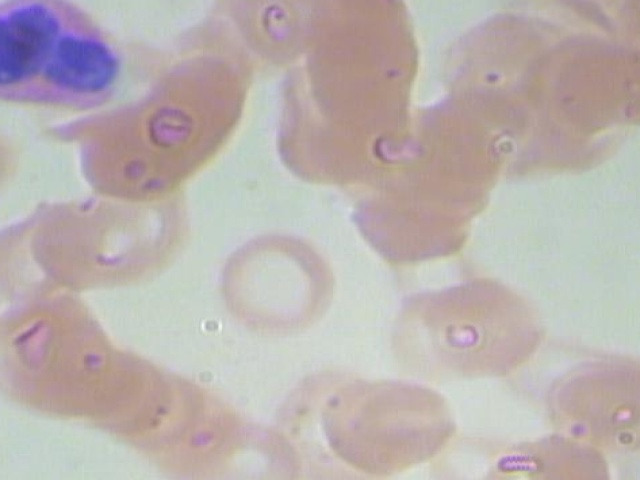Platelets: (510, 0, 554, 2)
RBC: (124, 55, 260, 175), (321, 363, 463, 477), (215, 220, 347, 339), (422, 262, 554, 381), (354, 263, 486, 382), (345, 161, 477, 280), (437, 0, 569, 119), (101, 362, 233, 457), (46, 338, 178, 433), (13, 315, 145, 410), (65, 181, 197, 276), (20, 190, 152, 285), (536, 334, 640, 449), (542, 31, 640, 151), (134, 391, 266, 480), (0, 298, 118, 393), (422, 70, 539, 164), (184, 405, 316, 480), (0, 205, 103, 300), (207, 0, 324, 62), (0, 111, 37, 205)
WBC: (0, 0, 124, 119)
